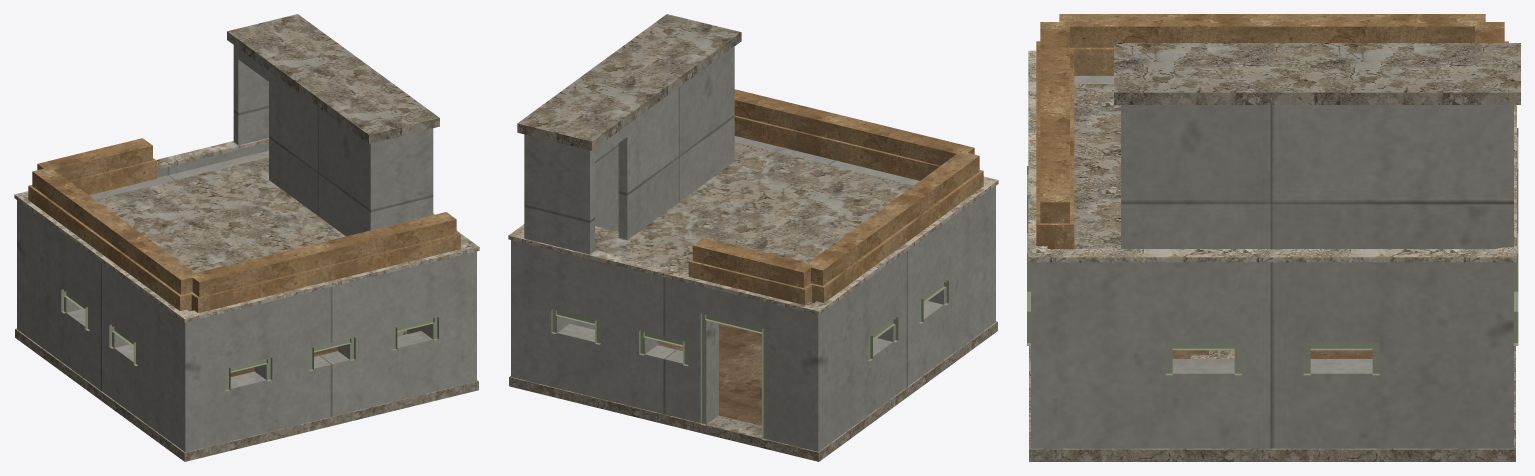
Rendered from mb-pillbox.garrison-v3.lod0.glb.
3 views of the same model, side by side, from view 1: azimuth 30°, elevation 25°; view 2: azimuth 150°, elevation 25°; view 3: azimuth 270°, elevation 25° (orthographic). The views are drawn at different scales.
Parts seen in each view (by area): view 1: mb-pillbox; view 2: mb-pillbox; view 3: mb-pillbox.
Part boxes in pixels (left/top/right/bottom): mb-pillbox: left=14, top=14, right=479, bottom=461; mb-pillbox: left=508, top=14, right=998, bottom=461; mb-pillbox: left=1027, top=14, right=1520, bottom=461.
Size of the model in its own units: 7.12 by 5.8 by 7.16.
4 materials, 3 textured.
